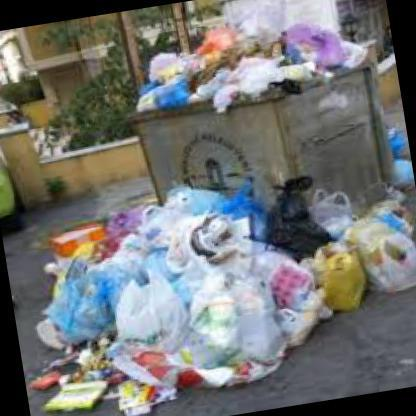Garbage: (258, 148, 415, 330), (110, 0, 369, 107), (96, 259, 230, 410), (192, 256, 315, 384), (33, 326, 166, 415), (164, 167, 271, 267), (47, 258, 130, 350), (46, 208, 142, 276), (270, 174, 343, 260), (353, 205, 415, 303), (306, 230, 380, 310), (43, 352, 114, 415), (220, 48, 282, 101), (277, 13, 346, 59), (143, 70, 197, 108), (201, 30, 247, 72), (387, 121, 413, 187), (208, 78, 246, 114)
